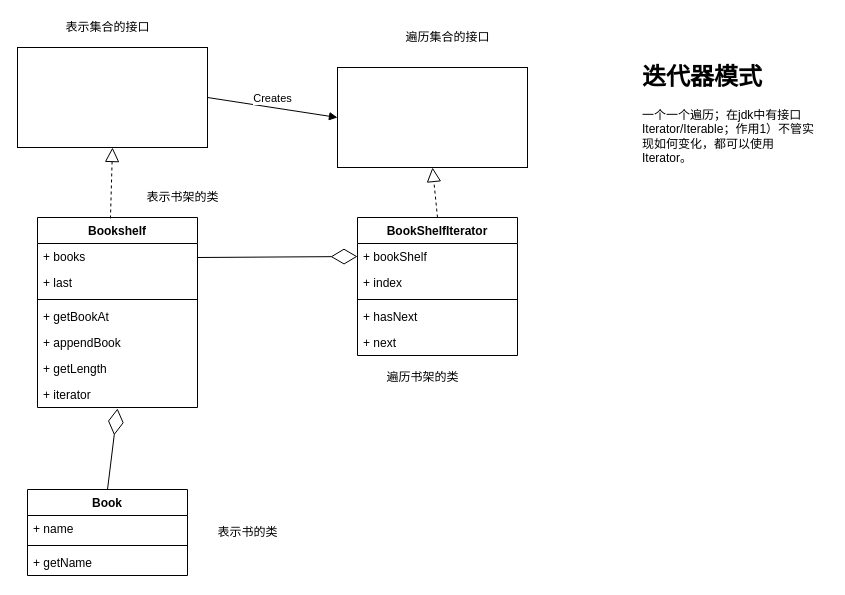
This 845x595 diagram has some shape labels left out. The shapes that lost their labels are listed below. From the top down, each one's centre as x and y in pixels, then its label:
At (x=112, y=97): "<<Interface>> Iterable + iterator".
At (x=432, y=117): "<<Interface>> Iterator + hasNext + next".
